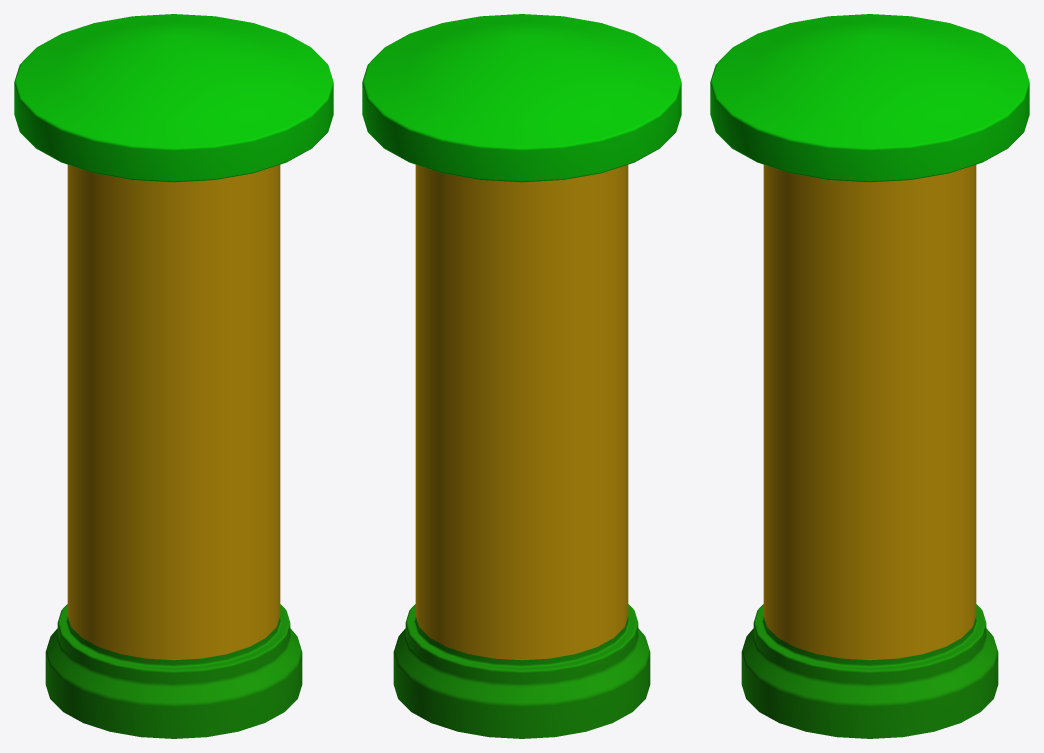
Rendered from Ad Column.fbx.
3 renders of one model, left to right at view 1: azimuth 30°, elevation 25°; view 2: azimuth 150°, elevation 25°; view 3: azimuth 270°, elevation 25°, orthographic.
Parts seen in each view (by area): view 1: Ad Column; view 2: Ad Column; view 3: Ad Column.
Boxes of the visible parts, box(x1,y1,x2,y2) form: Ad Column: box(14, 14, 333, 738); Ad Column: box(362, 14, 681, 738); Ad Column: box(710, 14, 1029, 738).
Bounding box in the file's own units: 192 × 192 × 430.
